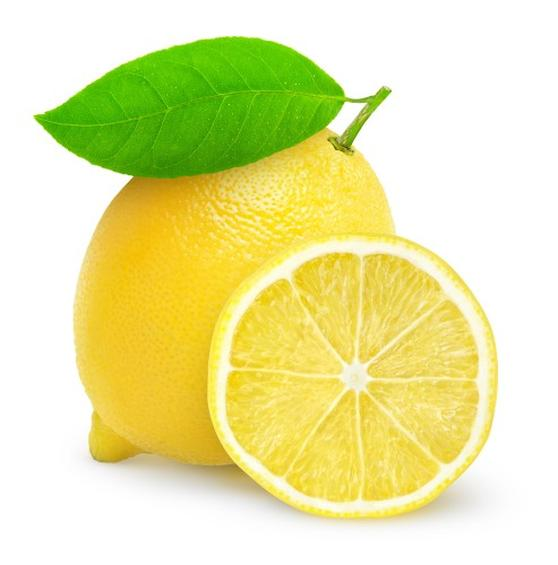lemon: (41, 94, 398, 476)
